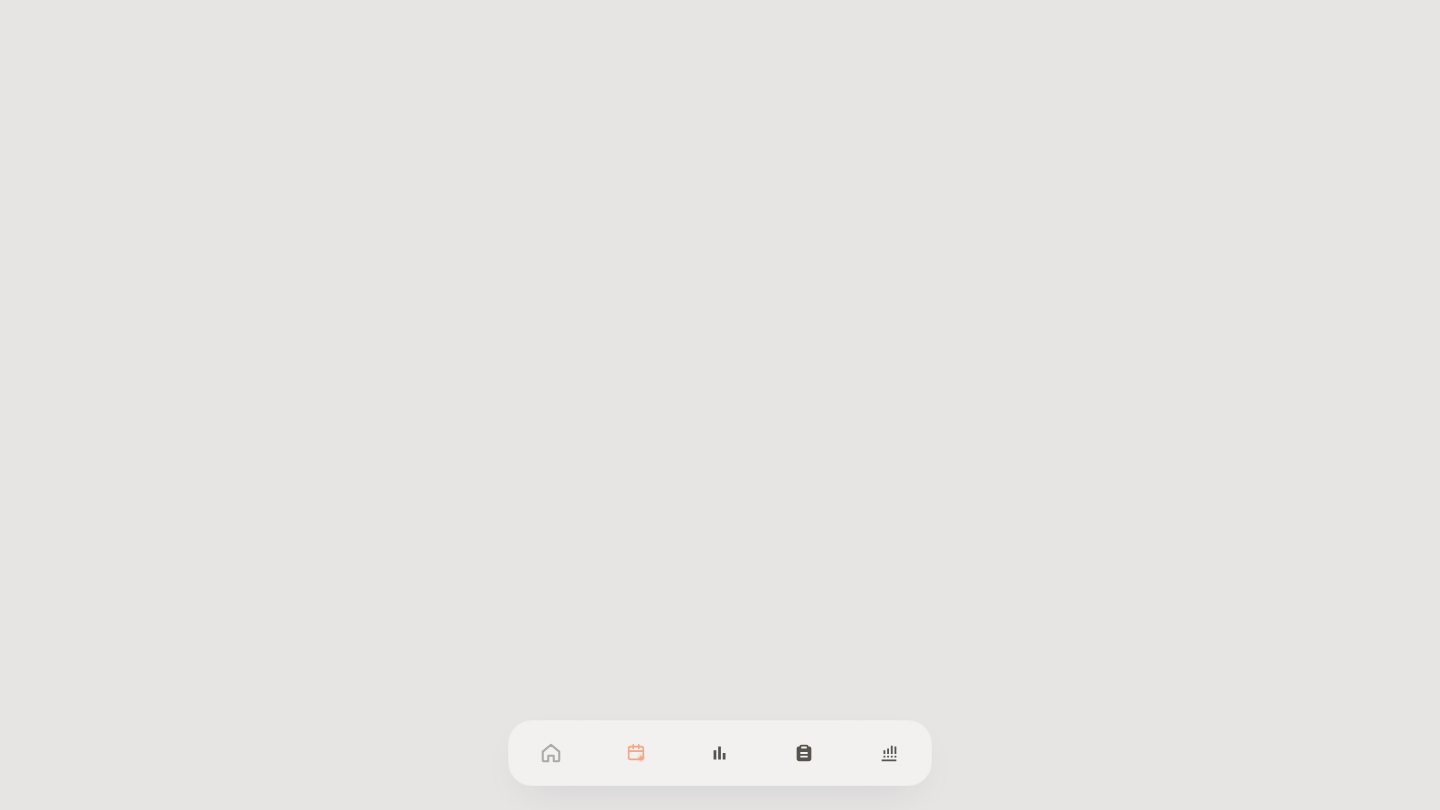
Test: 인라인 캘린더 열기 › 통계 버튼 클릭 시 일자별 통계 모달이 열린다
Step 1. Click the button named "일자별 통계 열기" → {"x": 720, "y": 753}, box [678,729,762,777]
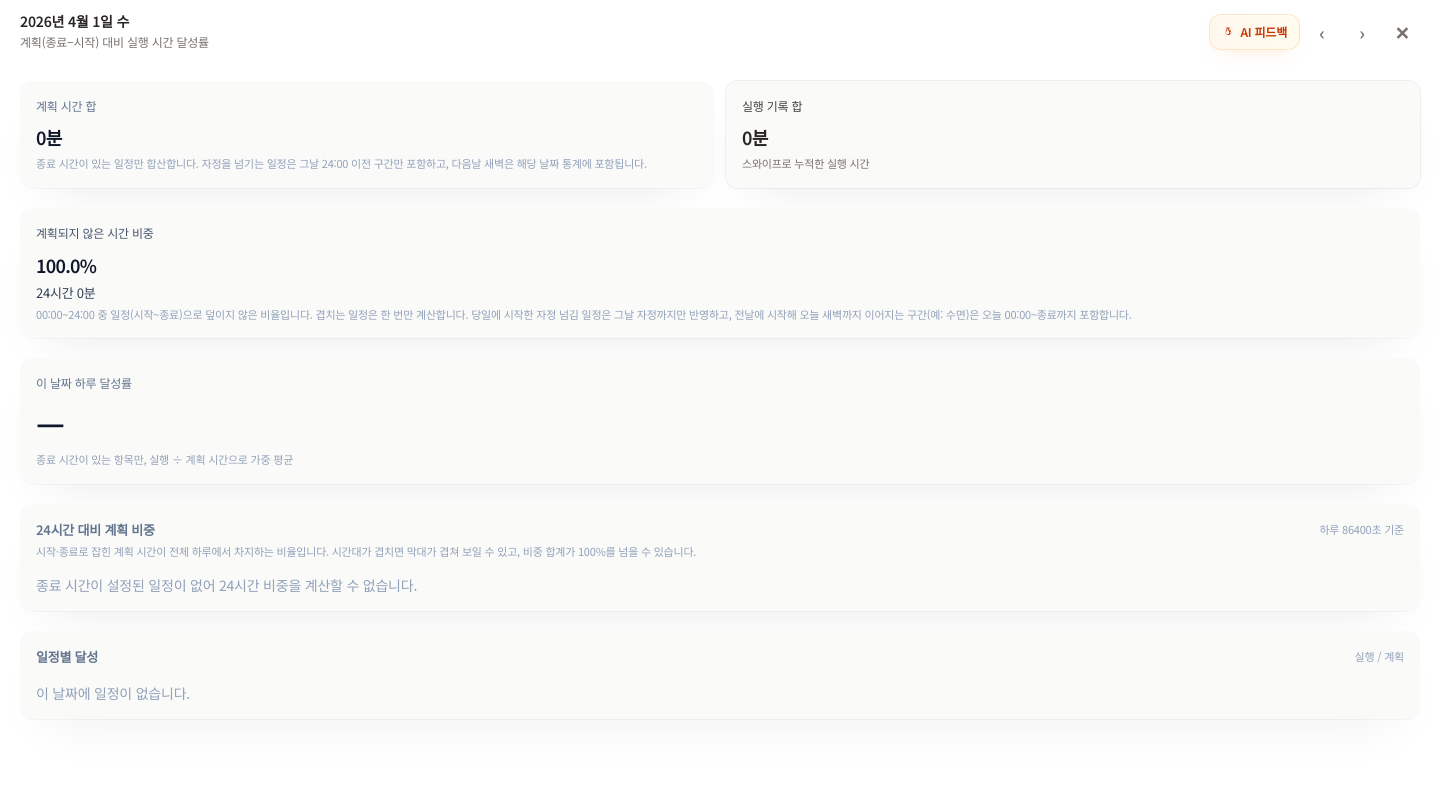
expect the text "계획(종료−시작) 대비 실행 시간 달성률" is shown: met, box [20,33,209,50]
expect the heading "일정별 달성" is shown: met, box [36,647,98,667]
